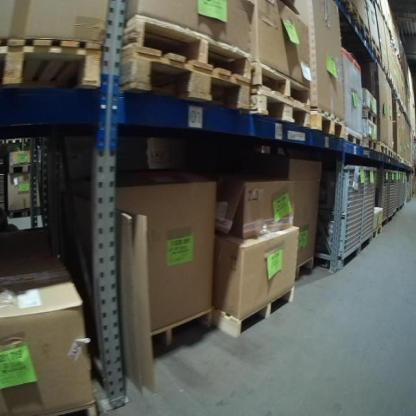pallets: (2, 21, 415, 162), (121, 298, 218, 364), (216, 285, 295, 338), (279, 246, 319, 292), (1, 397, 99, 415)
